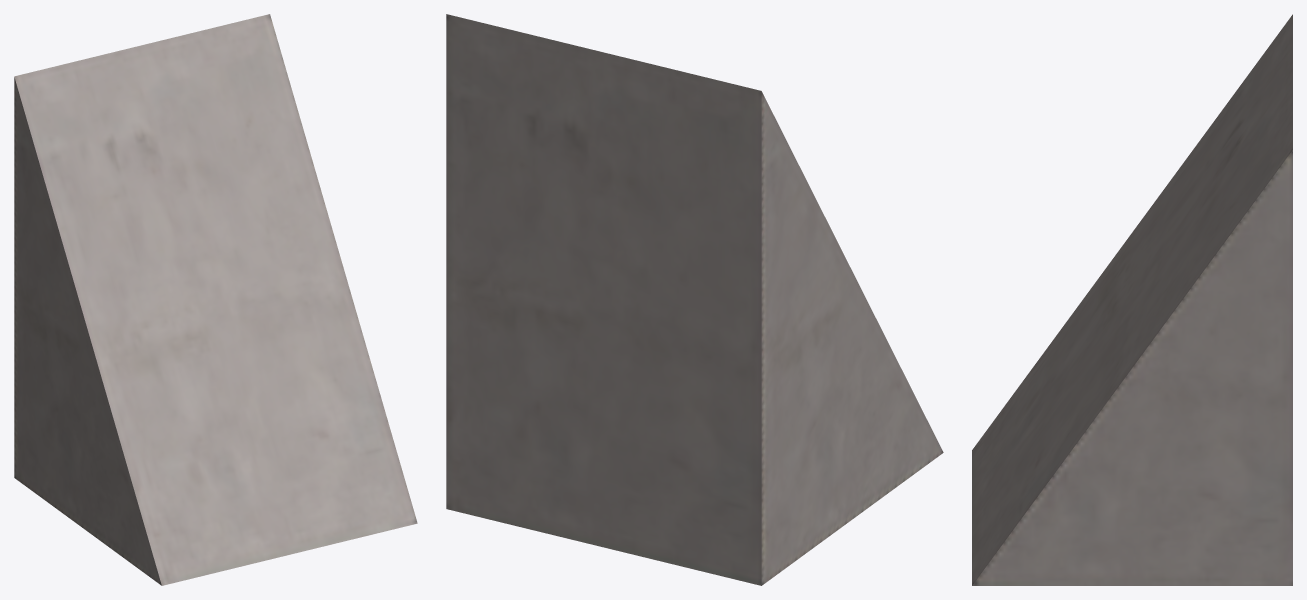
The picture shows the model from 3 angles, left to right: view 1: azimuth 30°, elevation 25°; view 2: azimuth 150°, elevation 25°; view 3: azimuth 270°, elevation 25°; orthographic projection. The views are drawn at different scales.
Visible parts, largest first — view 1: Cube.007; view 2: Cube.007; view 3: Cube.007.
Part boxes in pixels (left/top/right/bottom): Cube.007: left=14, top=14, right=417, bottom=585; Cube.007: left=446, top=14, right=943, bottom=585; Cube.007: left=972, top=14, right=1292, bottom=585.
Bounding box in the file's own units: 4 × 6 × 4.
Materials: 1 (1 with a texture image).
